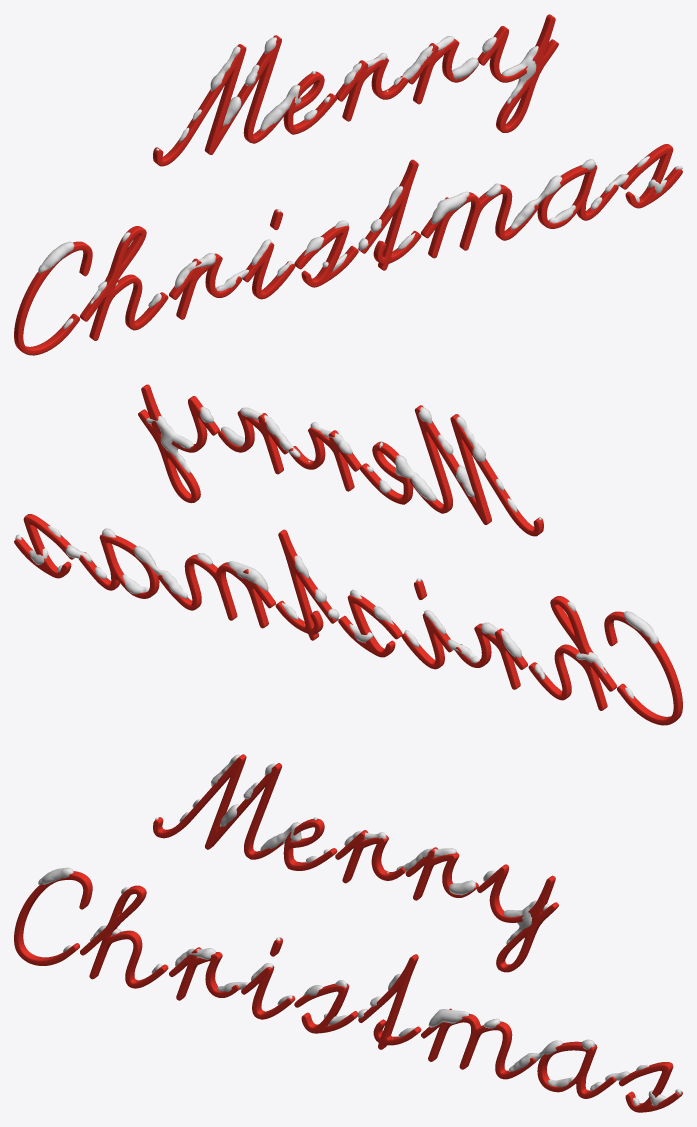
Rendered from merry_christmas_sign_with_snow.glb.
3 renders of one model, top to bottom at view 1: azimuth 30°, elevation 25°; view 2: azimuth 150°, elevation 25°; view 3: azimuth 330°, elevation 25°, orthographic.
Visible parts, largest first — view 1: Merry, Christmas, MerrySnow, ChristmasSnow; view 2: Merry, Christmas, MerrySnow, ChristmasSnow; view 3: Merry, Christmas, MerrySnow, ChristmasSnow.
Part boxes in pixels (x1,y1,x2,y2): Merry: (14,144,682,355); Christmas: (153,14,558,166); MerrySnow: (38,156,682,329); ChristmasSnow: (156,36,538,150); Merry: (14,514,682,725); Christmas: (138,384,543,536); MerrySnow: (15,526,658,698); ChristmasSnow: (146,406,541,520); Merry: (14,871,682,1112); Christmas: (153,754,558,972); MerrySnow: (38,867,681,1106); ChristmasSnow: (155,754,549,944).
Size of the model in its own units: 0.8113 by 0.3006 by 0.0175.
